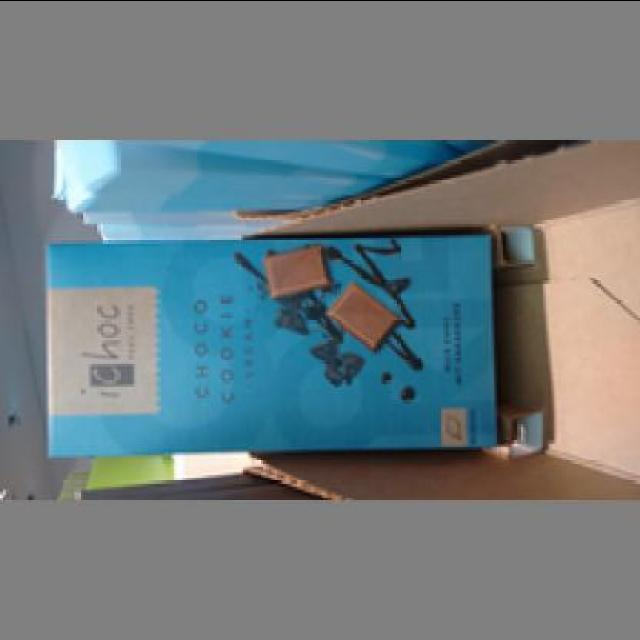Chocolate bar: (40, 223, 497, 463)
